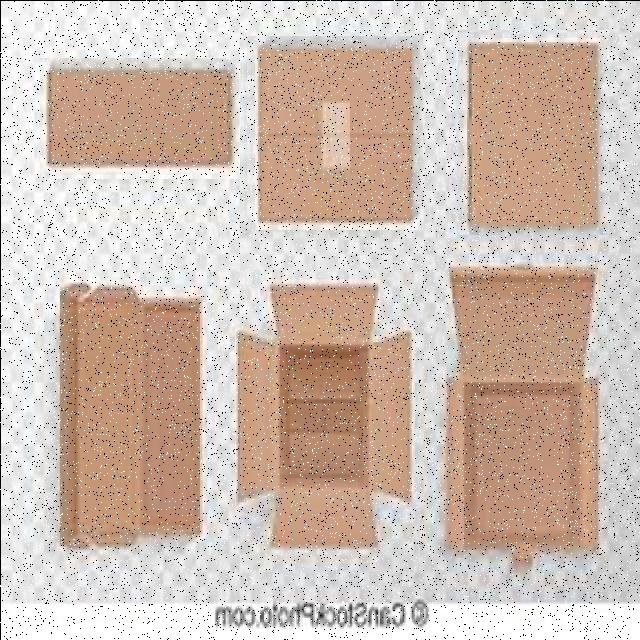defect: (231, 264, 414, 558)
normal: (246, 36, 422, 230), (457, 29, 608, 234), (38, 57, 238, 178)
